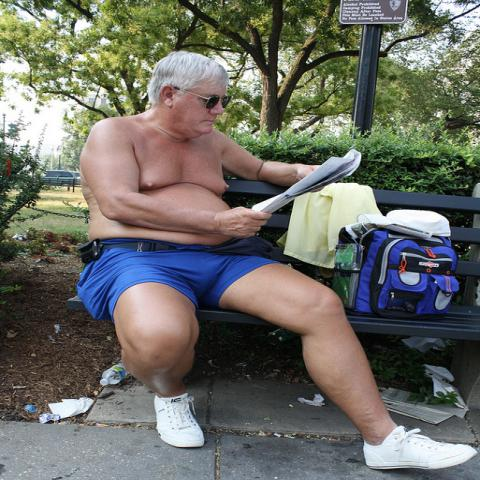car: (38, 170, 76, 186)
